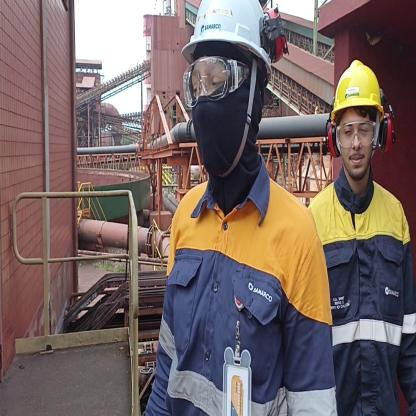Balaclava: (188, 48, 266, 199)
C_eletrica: (306, 185, 416, 415)
Capacete: (187, 0, 283, 60), (328, 56, 388, 117)
Operacional: (150, 185, 334, 416)
